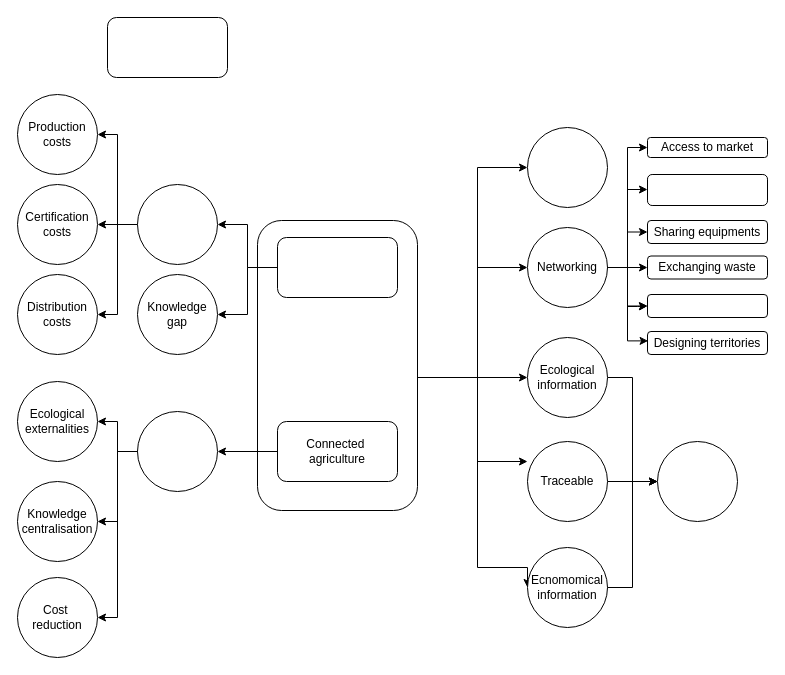
Some shapes in this 785 by 675 pixel diagram are drawn without their labels. The box of each missing label's shape, as (x1, y1, x2, y2) in pixels:
Agroecological agriculture: (276, 236, 398, 298)
Exchanging seeds: (646, 294, 768, 318)
lowtec, low cost: (526, 126, 608, 208)
Modelling machine learning: (656, 440, 738, 522)
Share information between actors: (106, 16, 228, 78)
Sharing information on technologies: (646, 174, 768, 206)
Small scale: (136, 184, 218, 264)
Tecnocentric: (136, 410, 218, 492)
